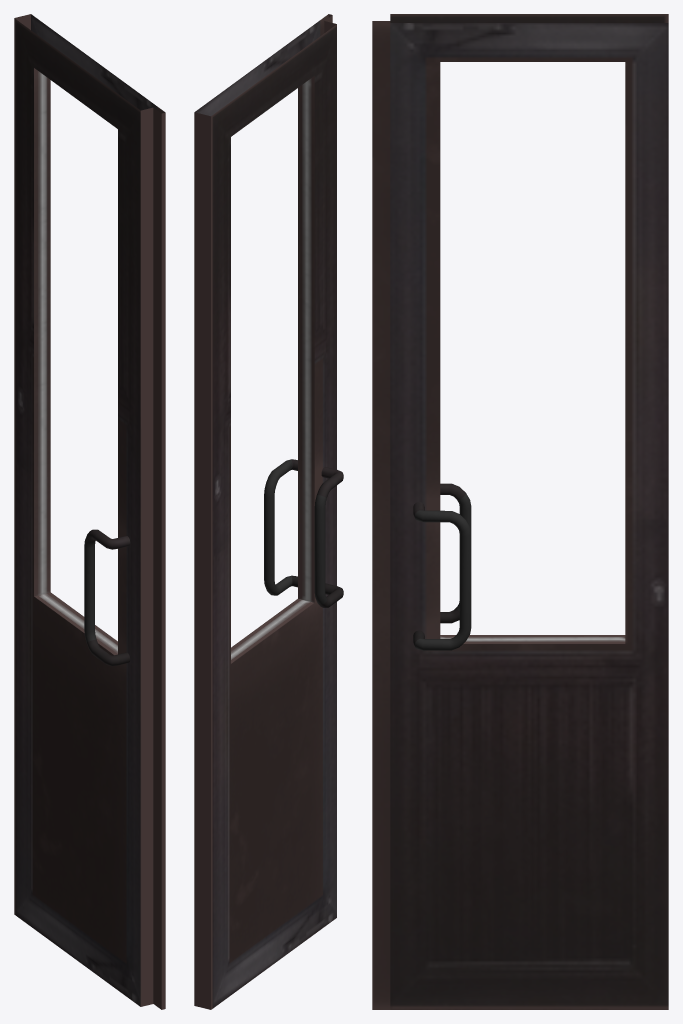
The model's file is kor_L.glb.
3 views of the same model, side by side, from view 1: azimuth 30°, elevation 25°; view 2: azimuth 150°, elevation 25°; view 3: azimuth 270°, elevation 25° (orthographic). The views are drawn at different scales.
Visible parts, largest first — view 1: door_11.003; view 2: door_11.003; view 3: door_11.003.
Part boxes in pixels (x1,y1,x2,y2): door_11.003: [14, 14, 165, 1009]; door_11.003: [194, 14, 343, 1009]; door_11.003: [372, 14, 668, 1009].
Bounding box in the file's own units: 0.1652 × 2.36 × 0.6424.
1 material, 1 textured.
